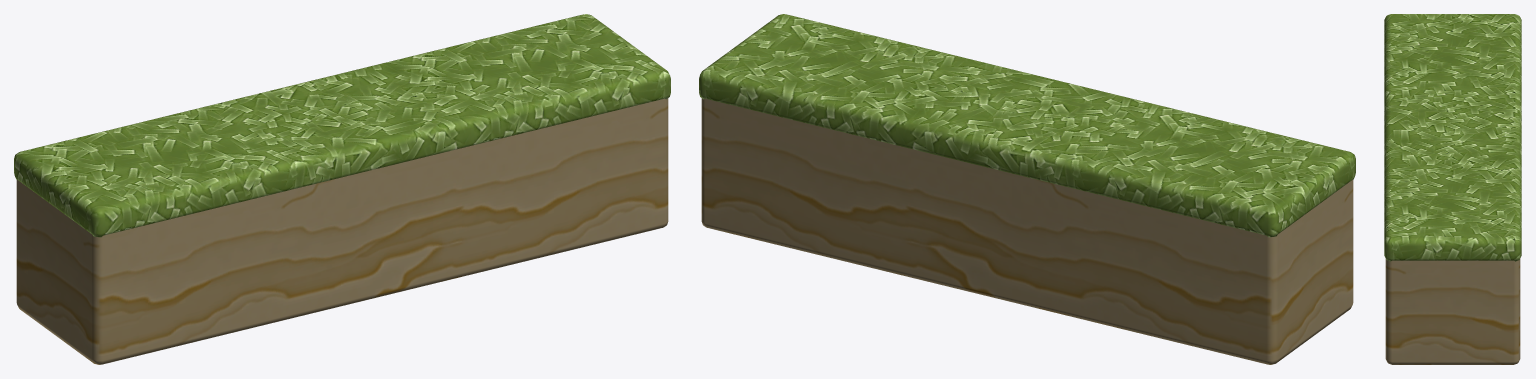
Rendered from SM_Platform_1m_03_A.glb.
3 views of the same model, side by side, from view 1: azimuth 30°, elevation 25°; view 2: azimuth 150°, elevation 25°; view 3: azimuth 270°, elevation 25° (orthographic). The views are drawn at different scales.
Parts seen in each view (by area): view 1: SM_Platform_1m_03_A; view 2: SM_Platform_1m_03_A; view 3: SM_Platform_1m_03_A.
Part boxes in pixels (left/top/right/bottom): SM_Platform_1m_03_A: left=14, top=14, right=670, bottom=364; SM_Platform_1m_03_A: left=699, top=14, right=1355, bottom=364; SM_Platform_1m_03_A: left=1384, top=14, right=1521, bottom=364.
Bounding box in the file's own units: 4.02 × 1.05 × 1.02.
Materials: 2 (2 with a texture image).
